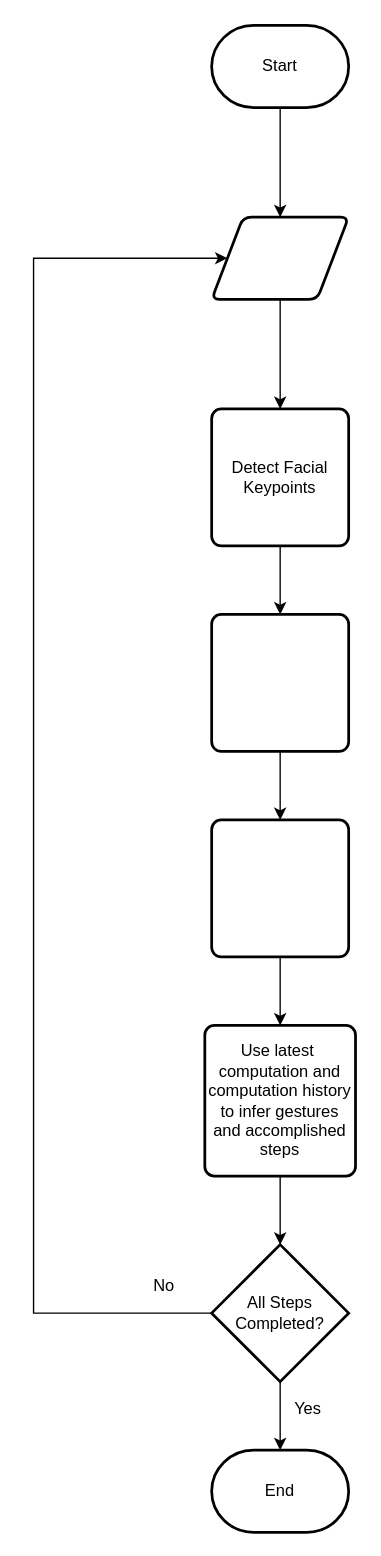
Some shapes in this 381 by 1556 pixel diagram are drawn without their labels. Each missing label, with the centre of its shape:
"Detect & Localize Swab Tip" goes at pixel 279 682.
"Detect Aruco marker & its orienation" goes at pixel 279 888.
"Input from camera" goes at pixel 279 257.
